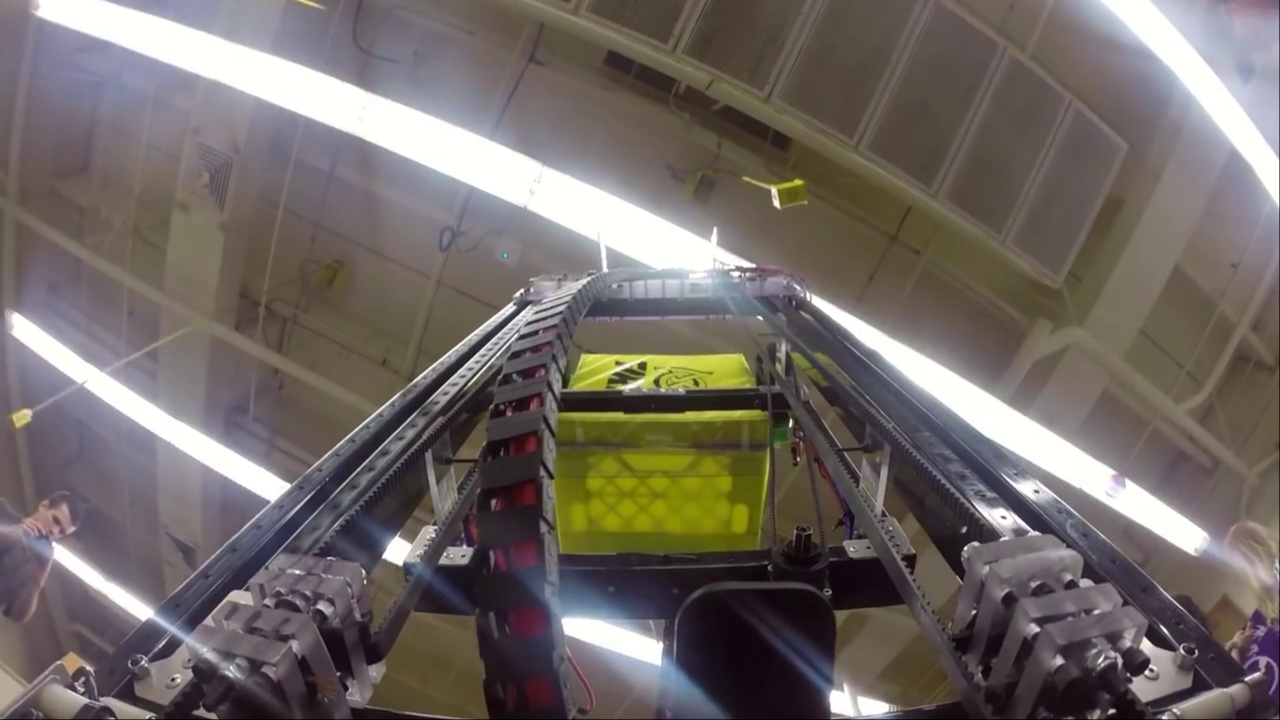cube: (548, 352, 771, 568)
